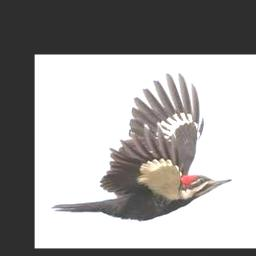Woodpecker: (51, 73, 233, 220)
